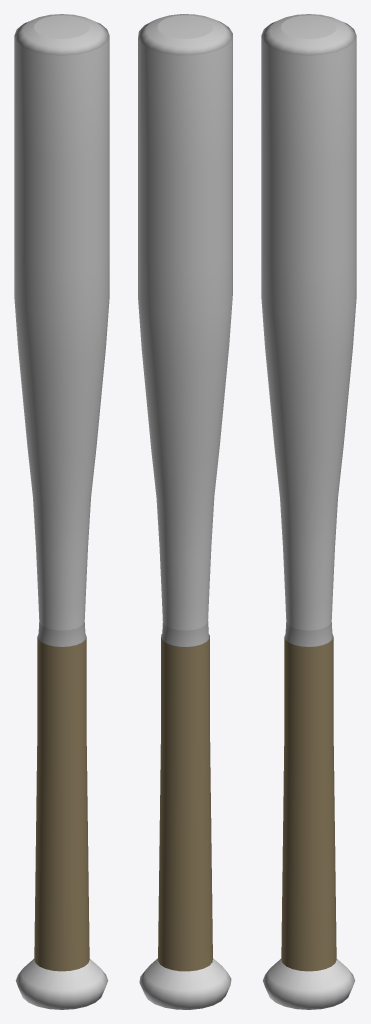
Rendered from bat.fbx.
The picture shows the model from 3 angles, left to right: view 1: azimuth 90°, elevation 25°; view 2: azimuth 150°, elevation 25°; view 3: azimuth 270°, elevation 25°; orthographic projection.
Visible parts, largest first — view 1: pCylinder1; view 2: pCylinder1; view 3: pCylinder1.
Boxes of the visible parts, left/top/right/bottom form: pCylinder1: left=14, top=14, right=109, bottom=1009; pCylinder1: left=138, top=14, right=232, bottom=1009; pCylinder1: left=261, top=14, right=356, bottom=1009.
Bounding box in the file's own units: 2 × 22.56 × 2.
